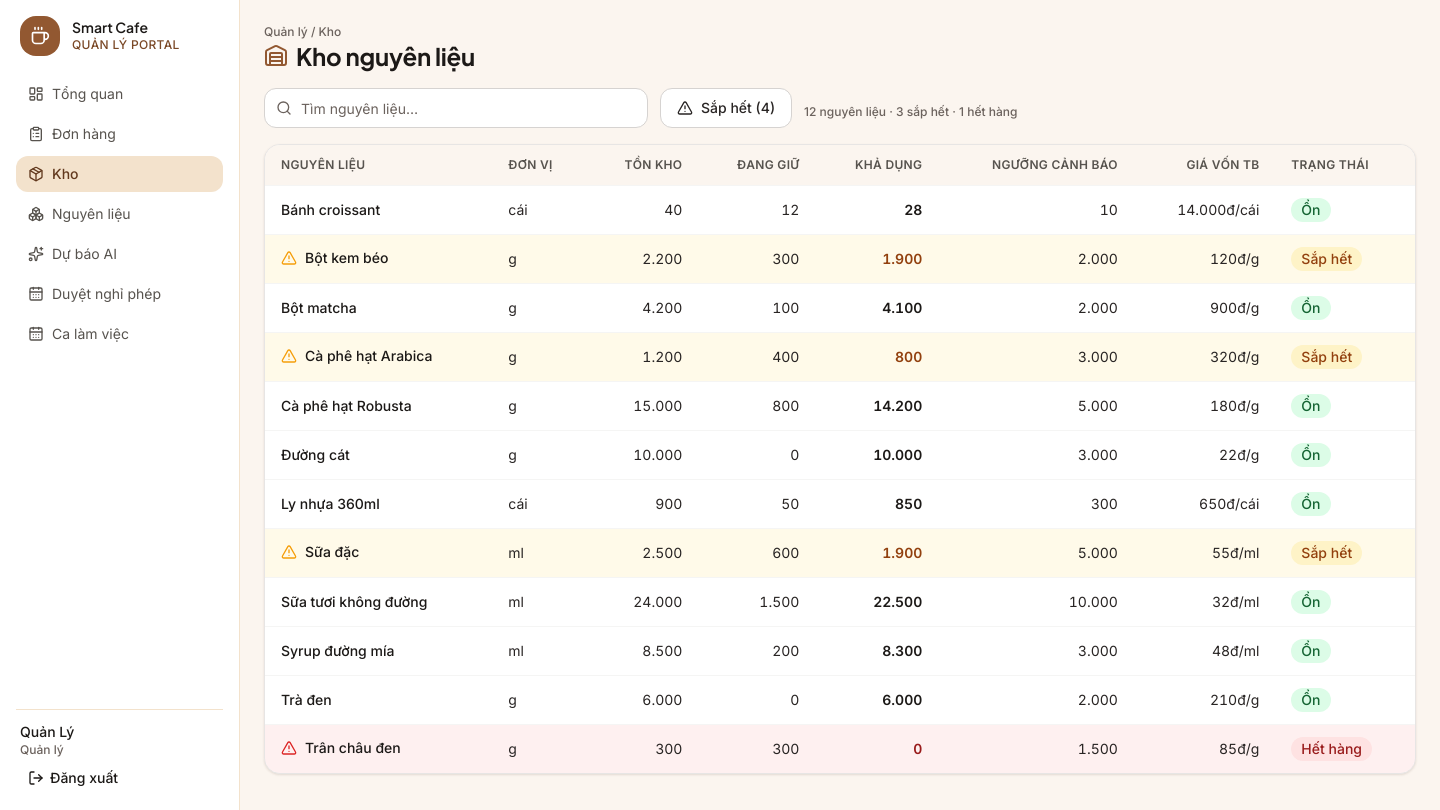
/manager/inventory › drawer: lịch sử log, biểu đồ 7 ngày và lọc theo nhóm nguồn
This screenshot has width=1440, height=810.
Click the button "Cà phê hạt Robusta" at (346, 406), box [281,396,412,416]
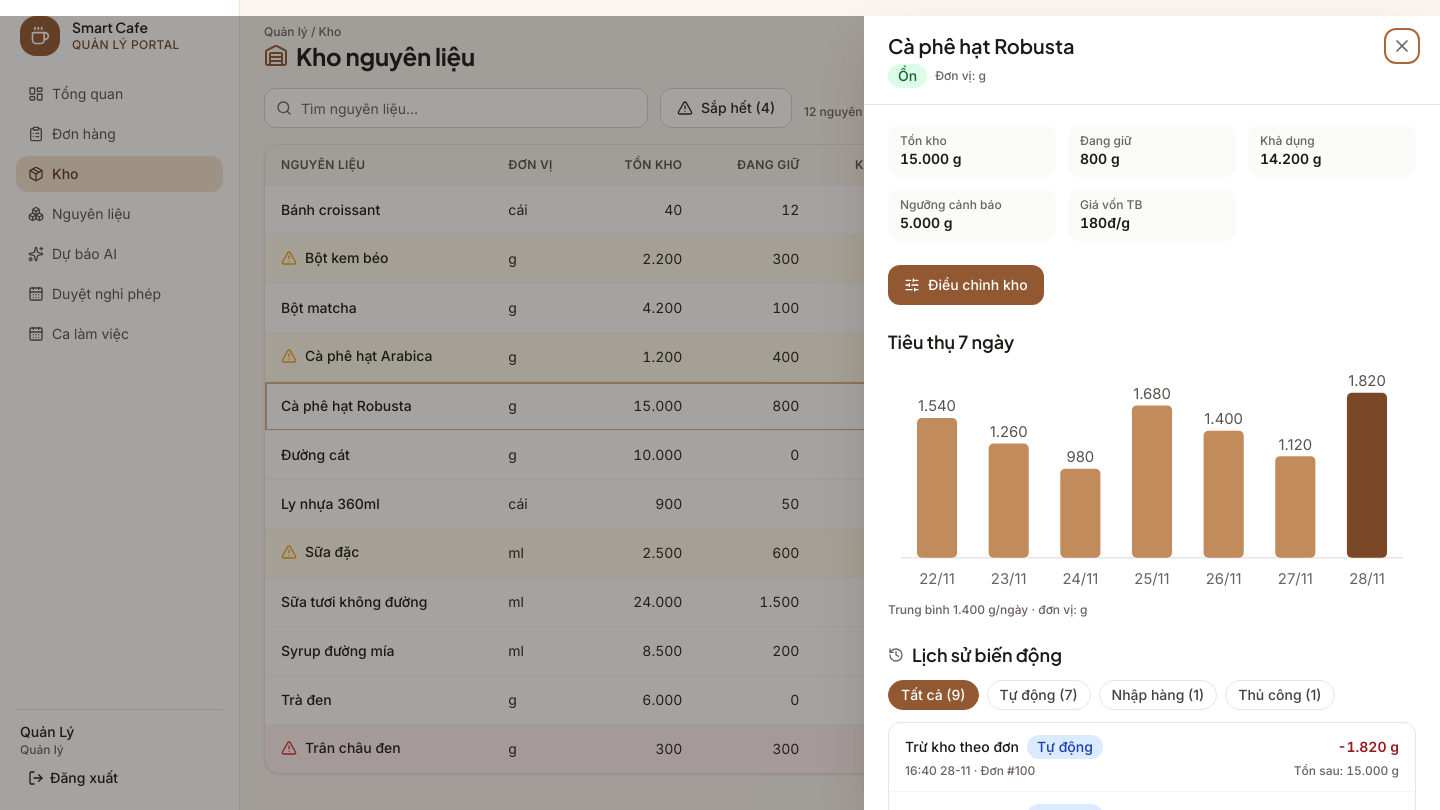
expect the picture named "Tiêu thụ 7 ngày gần nhất" is shown: met, box [888,363,1416,594]
expect the button "Tất cả (9)" is shown: met, box [888,680,978,710]
Click the button "Thủ công (1)" at (1280, 695), box [1225,680,1335,710]
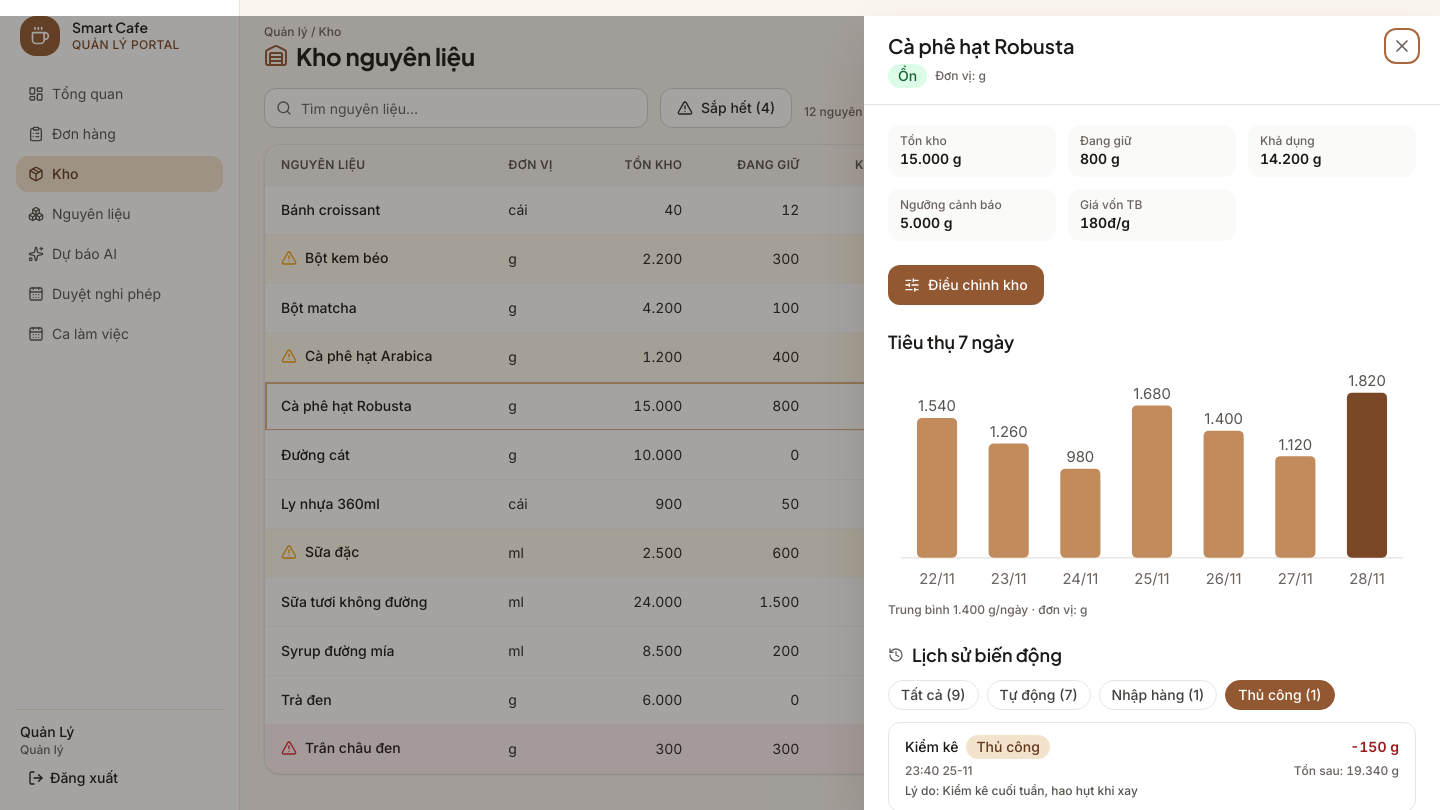
expect the number of list items is 1: met, box [889,723,1415,809]
expect the text "Kiểm kê" is shown: met, box [905,737,958,757]
Click the button "Nhập hàng (1)" at (1158, 695), box [1099,680,1217,710]
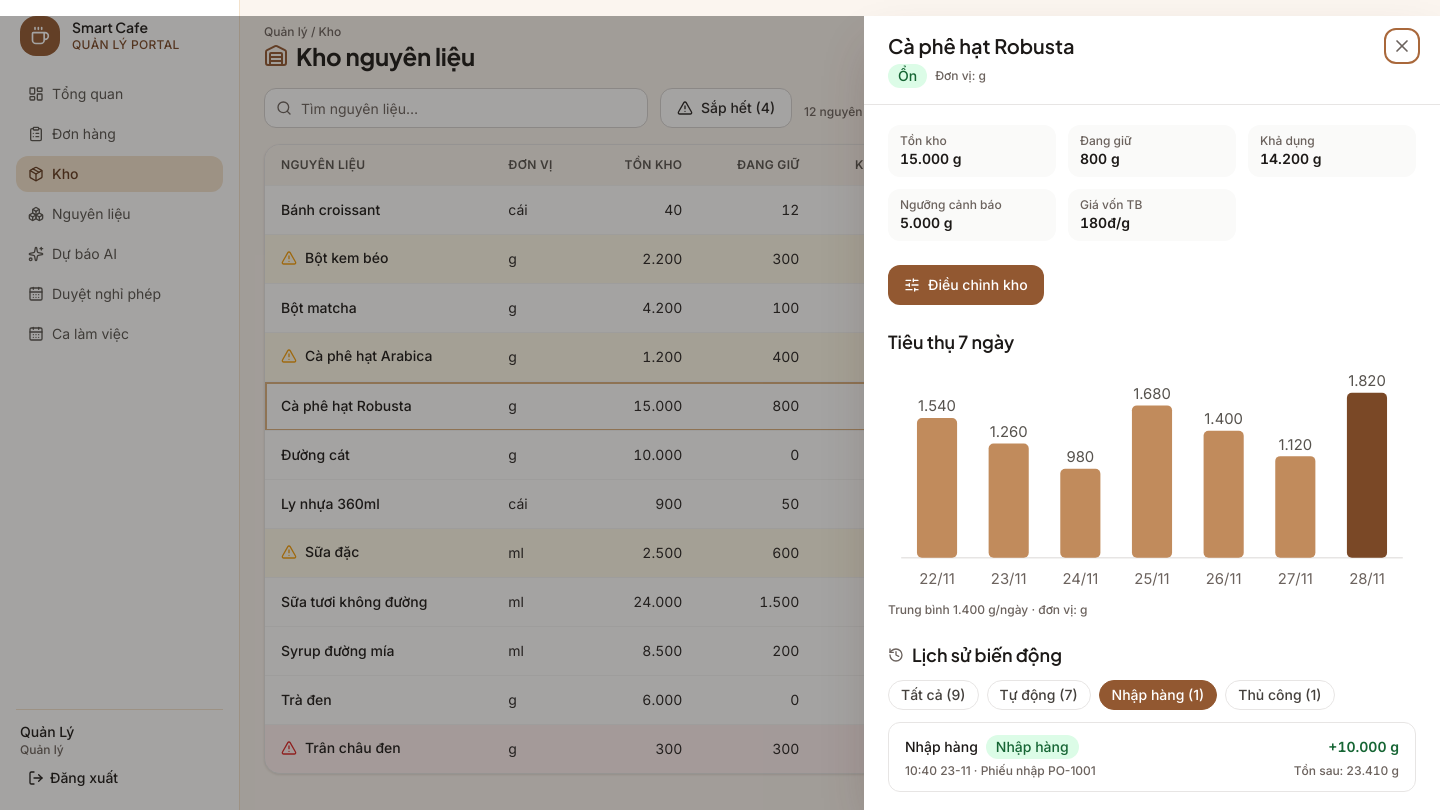
expect the list item shows "Nhập hàng": met, box [905,738,978,755]
